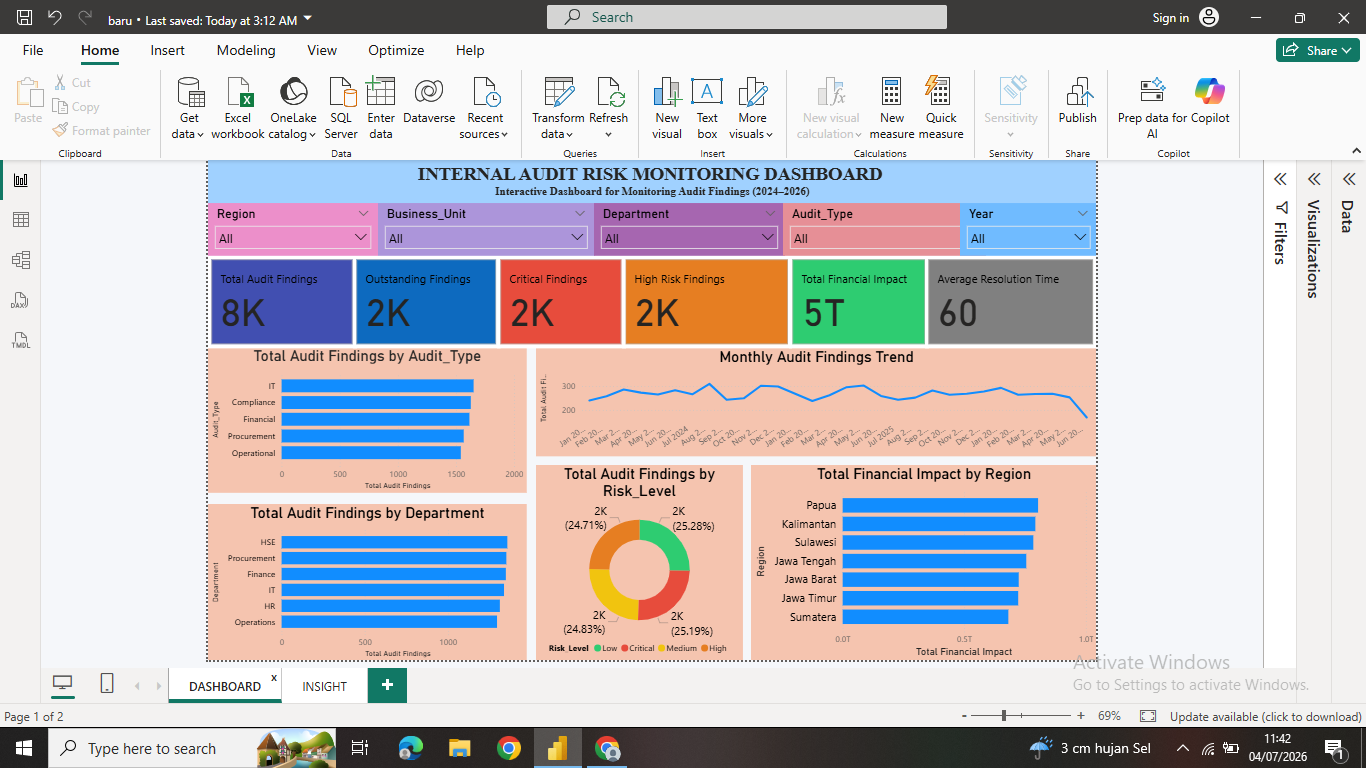

The dashboard page shown, as its layout file describes it:
{"tool":"powerbi","page":{"name":"Page 1","canvas":[1280,720],"ordinal":0},"visuals":[{"type":"slicer","fields":{"Values":["Fact_Audit.Region"]},"box":[0,62.2,244.6,75.6],"z":0,"group":"g1"},{"type":"cardVisual","fields":{"Data":["Fact_Audit.Total Audit"]},"box":[0,137.7,213.6,132.7],"z":0,"group":"g2"},{"type":"lineChart","title":"Monthly Audit Findings Trend","fields":{"Y":["Fact_Audit.Total Audit"],"Category":["Calendar.Year Month"]},"box":[472,270.4,808,156.2],"z":0},{"type":"slicer","fields":{"Values":["Fact_Audit.Business_Unit"]},"box":[244.6,62.2,311.6,75.6],"z":1000,"group":"g1"},{"type":"cardVisual","fields":{"Data":["Fact_Audit.Open Findings"]},"box":[209,137.7,211.8,132.7],"z":1000,"group":"g2"},{"type":"donutChart","fields":{"Category":["Fact_Audit.Risk_Level"],"Y":["Fact_Audit.Total Audit"]},"box":[472,428.3,297.3,292.3],"z":1000},{"type":"slicer","fields":{"Values":["Fact_Audit.Department"]},"box":[556.2,62.2,274.8,75.6],"z":2000,"group":"g1"},{"type":"cardVisual","fields":{"Data":["Fact_Audit.High Risk"]},"box":[596.6,137.7,244.2,132.7],"z":2000,"group":"g2"},{"type":"barChart","fields":{"Category":["Fact_Audit.Department"],"Y":["Fact_Audit.Total Audit"]},"box":[0,495.5,472,225.1],"z":2000},{"type":"slicer","fields":{"Values":["Fact_Audit.Audit_Type"]},"box":[827.6,62.2,291.5,75.6],"z":3000,"group":"g1"},{"type":"cardVisual","fields":{"Data":["Fact_Audit.Critical Risk"]},"box":[416.3,137.7,184.9,132.7],"z":3000,"group":"g2"},{"type":"columnChart","fields":{"Y":["Fact_Audit.Total Financial Impact"],"Category":["Fact_Audit.Region"]},"box":[769.3,428.3,510.7,292.3],"z":3000},{"type":"slicer","fields":{"Values":["Fact_Audit.Completion_Date.Variation.Date Hierarchy.Year"]},"box":[1082.3,62.2,197.7,75.6],"z":4000,"group":"g1"},{"type":"cardVisual","fields":{"Data":["Fact_Audit.Total Financial Impact"]},"box":[836.1,137.7,201.1,132.7],"z":4000,"group":"g2"},{"type":"barChart","fields":{"Category":["Fact_Audit.Audit_Type"],"Y":["Fact_Audit.Total Audit"]},"box":[0,270.4,472,225.1],"z":4000},{"type":"group","id":"g1","title":"Group 1","box":[0,62.2,1280,75.6],"z":5000},{"type":"cardVisual","fields":{"Data":["Fact_Audit.Average Days Open"]},"box":[1032.6,137.7,247.7,132.7],"z":5000,"group":"g2"},{"type":"group","id":"g2","title":"Group 2","box":[0,137.7,1280,132.7],"z":6000},{"type":"textbox","box":[0,0,1280,62.2],"z":7000}]}

Visuals, with their boxes on the page's 1280x720 design canvas (x1, y1, x2, y2). These are canvas units, not pixel positions in the 1366x768 screenshot, which may show the page scaled, cropped or inside an application window:
slicer - Fact_Audit.Region: [x1=0, y1=62, x2=245, y2=138]
cardVisual - Fact_Audit.Total Audit: [x1=0, y1=138, x2=214, y2=270]
"Monthly Audit Findings Trend" lineChart: [x1=472, y1=270, x2=1280, y2=427]
slicer - Fact_Audit.Business_Unit: [x1=245, y1=62, x2=556, y2=138]
cardVisual - Fact_Audit.Open Findings: [x1=209, y1=138, x2=421, y2=270]
donutChart - Fact_Audit.Risk_Level x Fact_Audit.Total Audit: [x1=472, y1=428, x2=769, y2=721]
slicer - Fact_Audit.Department: [x1=556, y1=62, x2=831, y2=138]
cardVisual - Fact_Audit.High Risk: [x1=597, y1=138, x2=841, y2=270]
barChart - Fact_Audit.Department x Fact_Audit.Total Audit: [x1=0, y1=496, x2=472, y2=721]
slicer - Fact_Audit.Audit_Type: [x1=828, y1=62, x2=1119, y2=138]
cardVisual - Fact_Audit.Critical Risk: [x1=416, y1=138, x2=601, y2=270]
columnChart - Fact_Audit.Total Financial Impact x Fact_Audit.Region: [x1=769, y1=428, x2=1280, y2=721]
slicer - Fact_Audit.Completion_Date.Variation.Date Hierarchy.Year: [x1=1082, y1=62, x2=1280, y2=138]
cardVisual - Fact_Audit.Total Financial Impact: [x1=836, y1=138, x2=1037, y2=270]
barChart - Fact_Audit.Audit_Type x Fact_Audit.Total Audit: [x1=0, y1=270, x2=472, y2=496]
"Group 1" group: [x1=0, y1=62, x2=1280, y2=138]
cardVisual - Fact_Audit.Average Days Open: [x1=1033, y1=138, x2=1280, y2=270]
"Group 2" group: [x1=0, y1=138, x2=1280, y2=270]
textbox: [x1=0, y1=0, x2=1280, y2=62]
